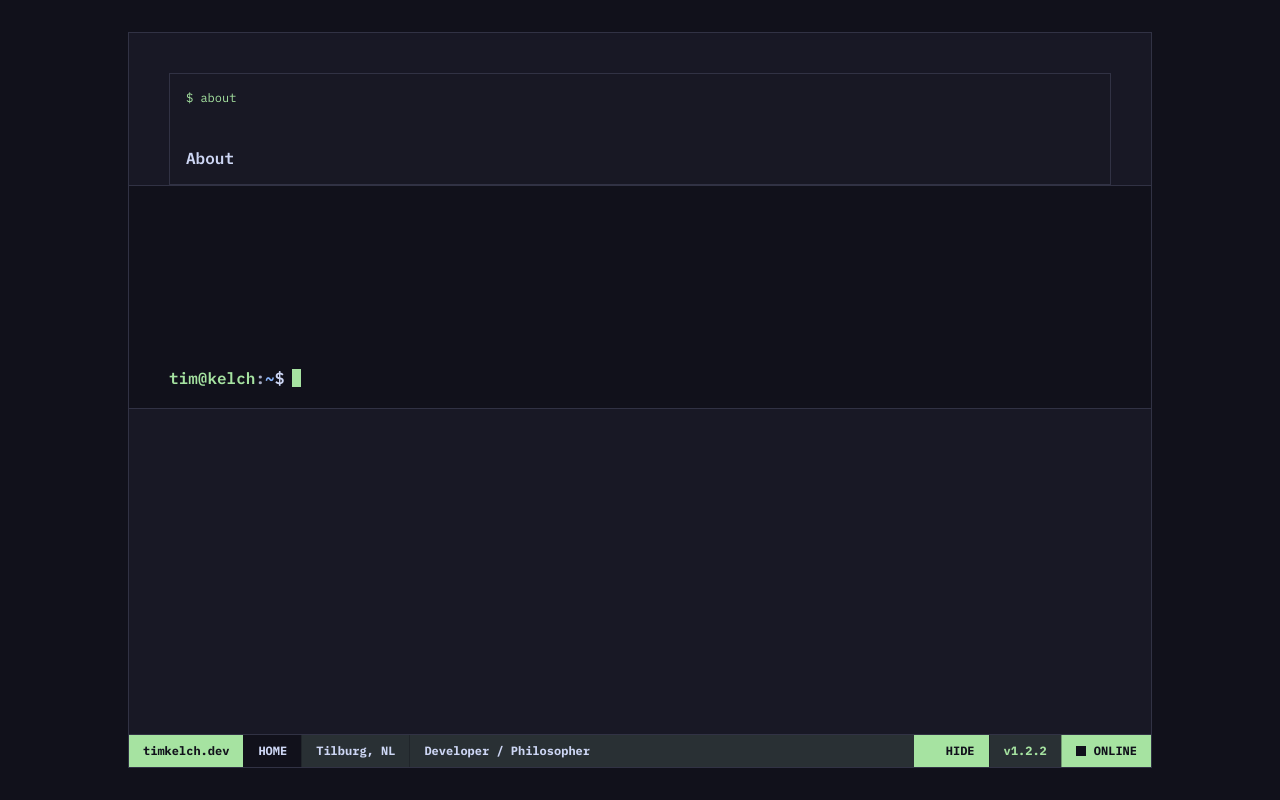
Test: terminal interaction › lists themes and applies a selected theme command
The image size is (1280, 800).
Type "theme" into the field named "Terminal command".
click(702, 378); type("theme")  # box [292,368,1111,388]
Then press Enter
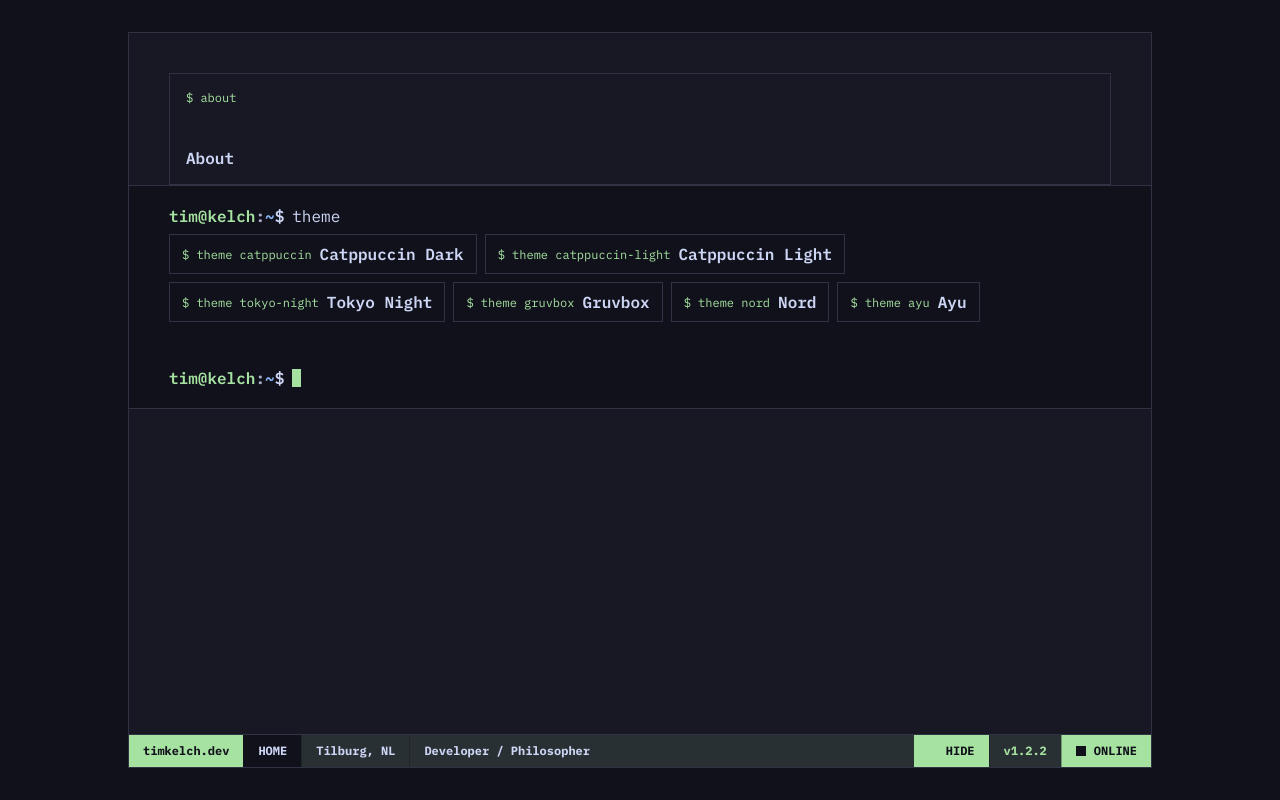
expect the button "$ theme tokyo-night Tokyo Night" is shown: met, box [169,282,445,322]
Type "theme gruvbox" into the field named "Terminal command".
click(702, 378); type("theme gruvbox")  # box [292,368,1111,388]
Then press Enter
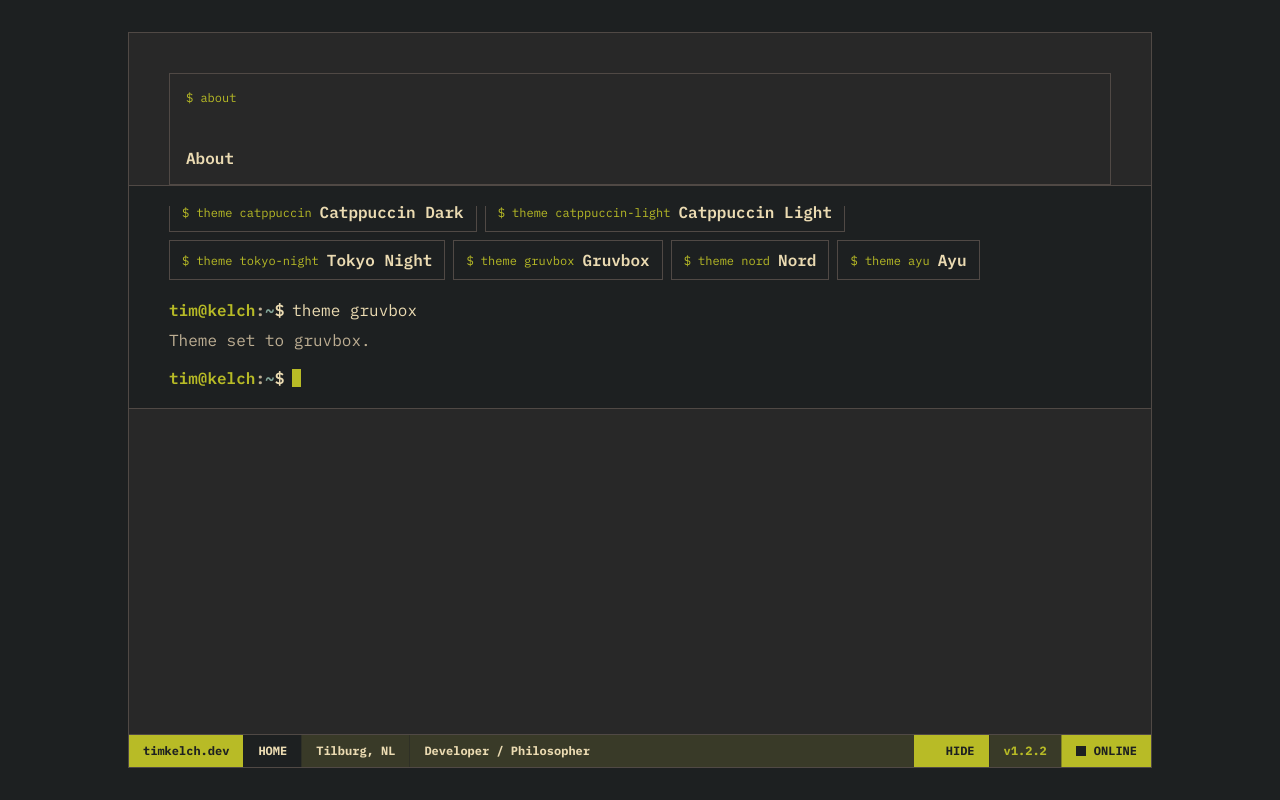
expect the text "Theme set to gruvbox." is shown: met, box [169,330,371,350]
